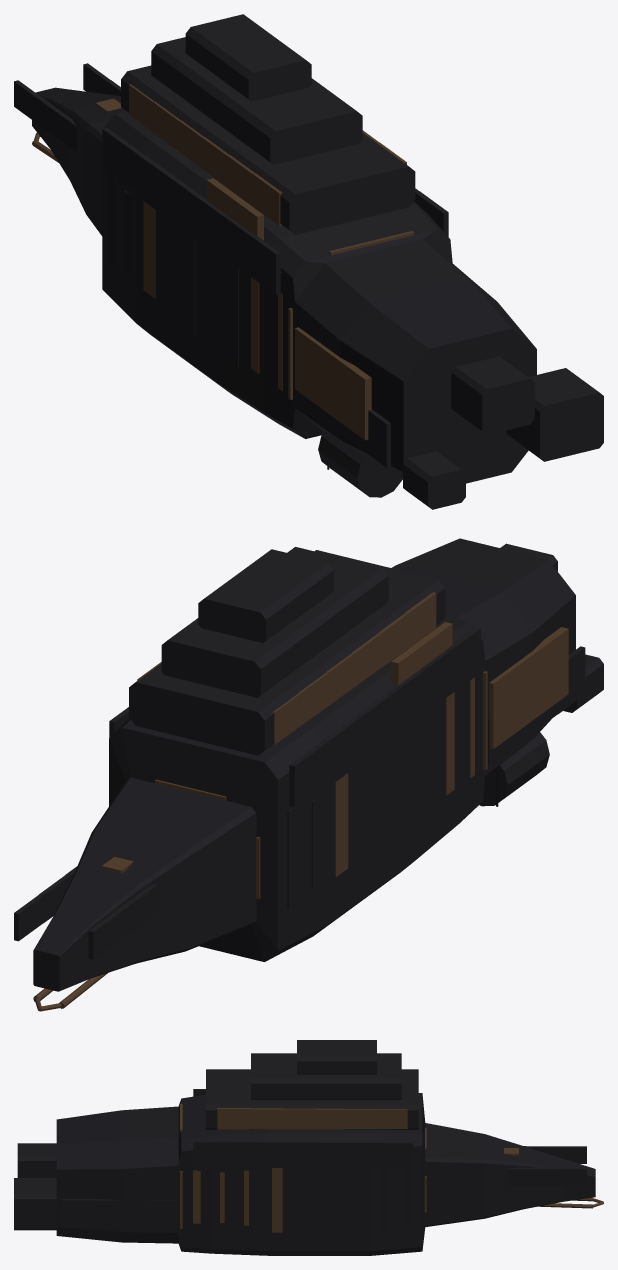
The picture shows the model from 3 angles, top to bottom: view 1: azimuth 30°, elevation 25°; view 2: azimuth 150°, elevation 25°; view 3: azimuth 270°, elevation 25°; orthographic projection. The views are drawn at different scales.
Visible parts, largest first — view 1: RIMWARD_HULL; view 2: RIMWARD_HULL; view 3: RIMWARD_HULL.
Boxes of the visible parts, x1,y1,x2,y2 form: RIMWARD_HULL: (14, 14, 603, 509); RIMWARD_HULL: (14, 538, 603, 1011); RIMWARD_HULL: (14, 1040, 603, 1255).
Size of the model in its own units: 7.67 by 11.98 by 33.28.
